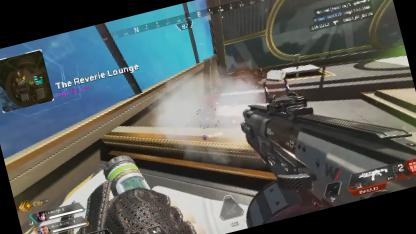Target: (250, 63, 264, 82)
